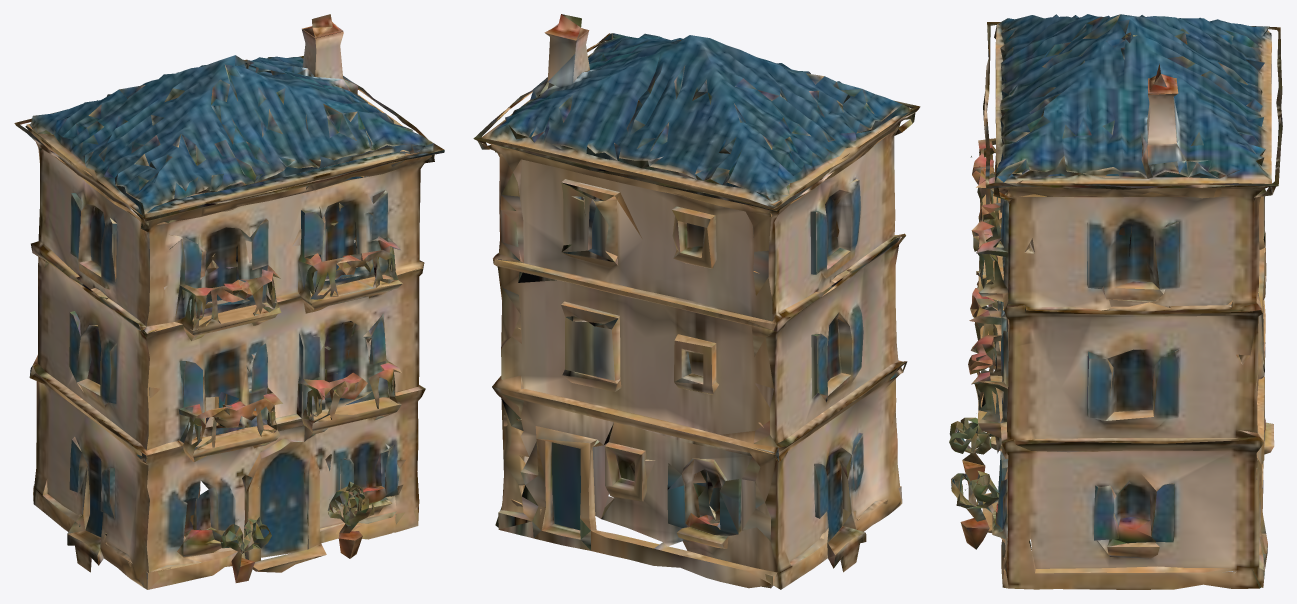
File: villa_3.glb
The picture shows the model from 3 angles, left to right: view 1: azimuth 30°, elevation 25°; view 2: azimuth 150°, elevation 25°; view 3: azimuth 270°, elevation 25°; orthographic projection. The views are drawn at different scales.
Parts seen in each view (by area): view 1: harbor__villa_3__neural_lod; view 2: harbor__villa_3__neural_lod; view 3: harbor__villa_3__neural_lod.
Boxes of the visible parts, x1,y1,x2,y2 form: harbor__villa_3__neural_lod: (14,14,444,589); harbor__villa_3__neural_lod: (473,14,920,589); harbor__villa_3__neural_lod: (949,14,1282,589).
Size of the model in its own units: 0.6599 by 0.9923 by 0.5732.
1 material, 1 textured.
